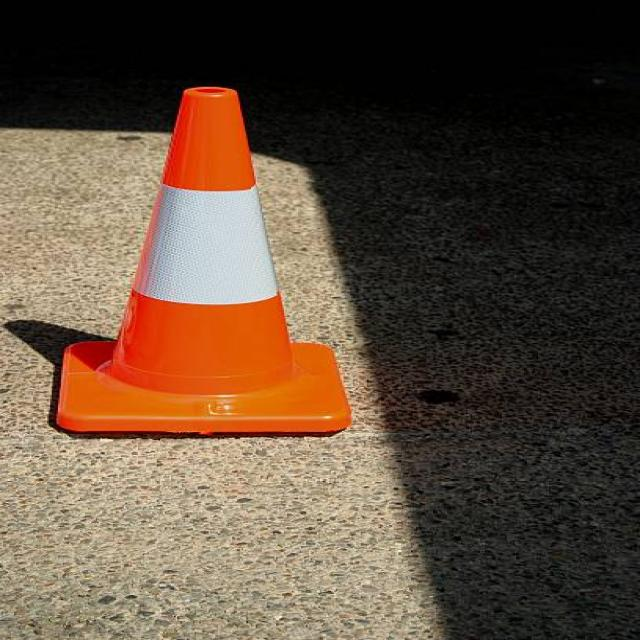Traffic Cone: (26, 66, 379, 455)
